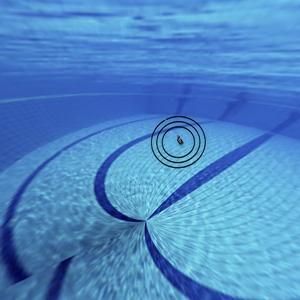circle: (140, 108, 220, 183)
submarine: (173, 132, 187, 149)
